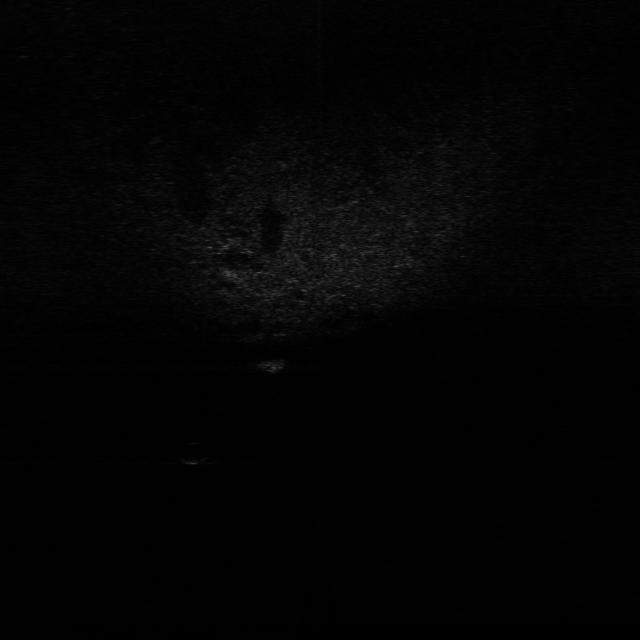ball: (170, 438, 214, 466)
cube: (264, 352, 290, 375)
